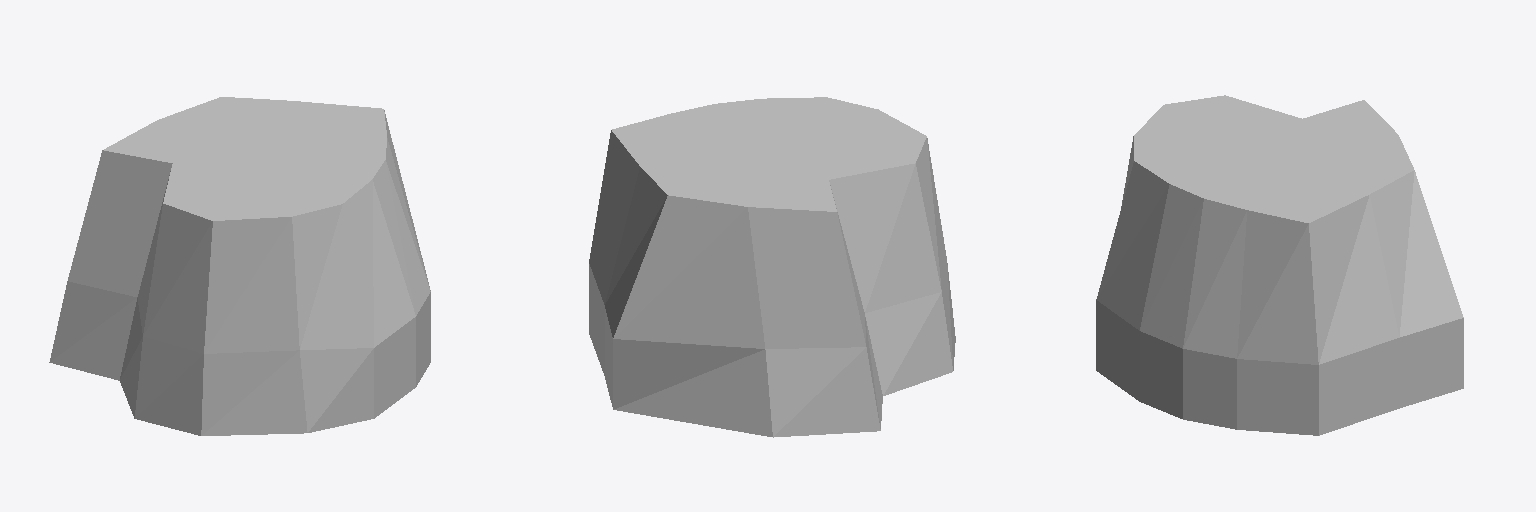
File: Rock4.obj
3 views of the same model, side by side, from view 1: azimuth 30°, elevation 25°; view 2: azimuth 150°, elevation 25°; view 3: azimuth 270°, elevation 25° (orthographic).
Parts seen in each view (by area): view 1: Rock4; view 2: Rock4; view 3: Rock4.
Part boxes in pixels (left/top/right/bottom): Rock4: left=49, top=97, right=430, bottom=435; Rock4: left=589, top=97, right=955, bottom=437; Rock4: left=1096, top=95, right=1463, bottom=435.
Size of the model in its own units: 12.77 by 7.79 by 12.72.